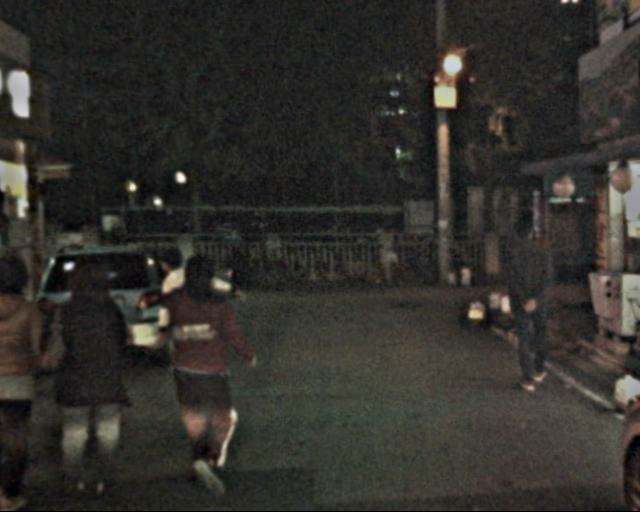person: (40, 241, 137, 496), (151, 245, 244, 493), (495, 210, 561, 400), (1, 253, 43, 510), (157, 238, 219, 411)
